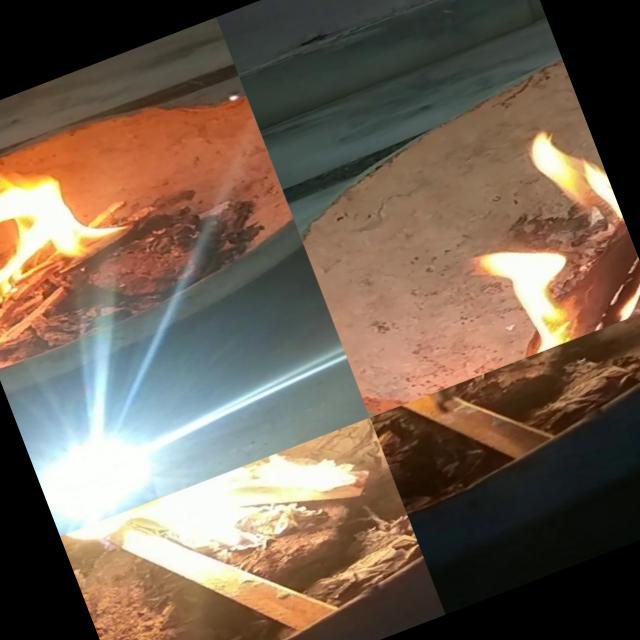fire: (60, 418, 397, 606), (434, 116, 640, 364), (0, 146, 168, 365)
